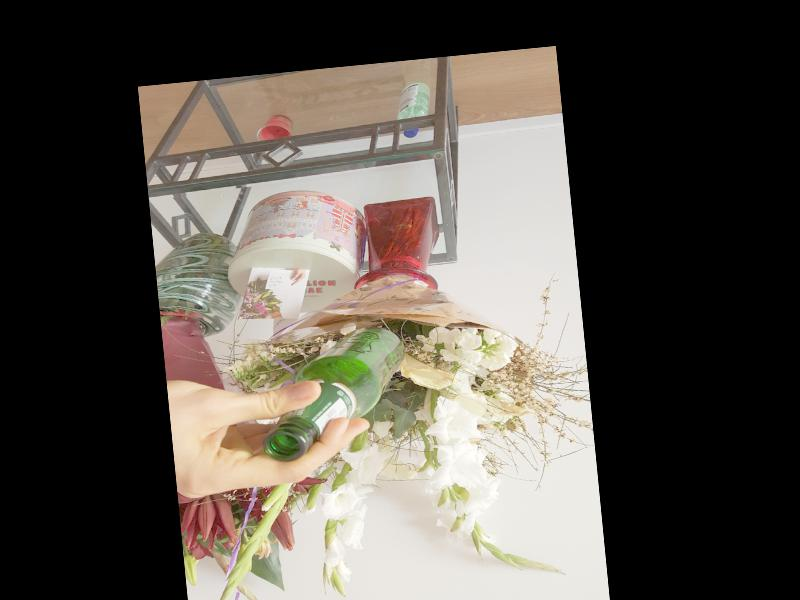Beer: (255, 324, 412, 463)
